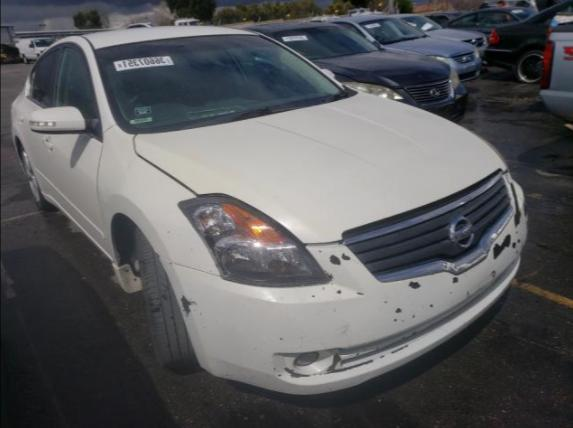Paint chip: (272, 357, 378, 378), (510, 180, 524, 227), (490, 233, 512, 261), (328, 352, 348, 371), (398, 328, 422, 342), (181, 294, 194, 316), (392, 341, 410, 355), (339, 324, 352, 337), (406, 281, 422, 291), (328, 253, 340, 266), (512, 237, 523, 251), (371, 344, 384, 354), (352, 350, 361, 359), (337, 287, 346, 295), (450, 276, 459, 284), (340, 253, 349, 260), (490, 270, 496, 279), (198, 312, 204, 320), (258, 343, 263, 351), (395, 307, 400, 314), (321, 286, 327, 291), (165, 232, 171, 237), (411, 313, 416, 318), (330, 308, 335, 313), (428, 302, 432, 308), (252, 345, 258, 349), (317, 250, 322, 254), (358, 292, 363, 296), (392, 318, 396, 323), (311, 295, 314, 301), (463, 290, 469, 293), (330, 276, 334, 280), (278, 336, 282, 340), (384, 302, 387, 306), (401, 321, 404, 325), (448, 290, 452, 293), (466, 293, 470, 296)
Scratch: (155, 252, 160, 260)
